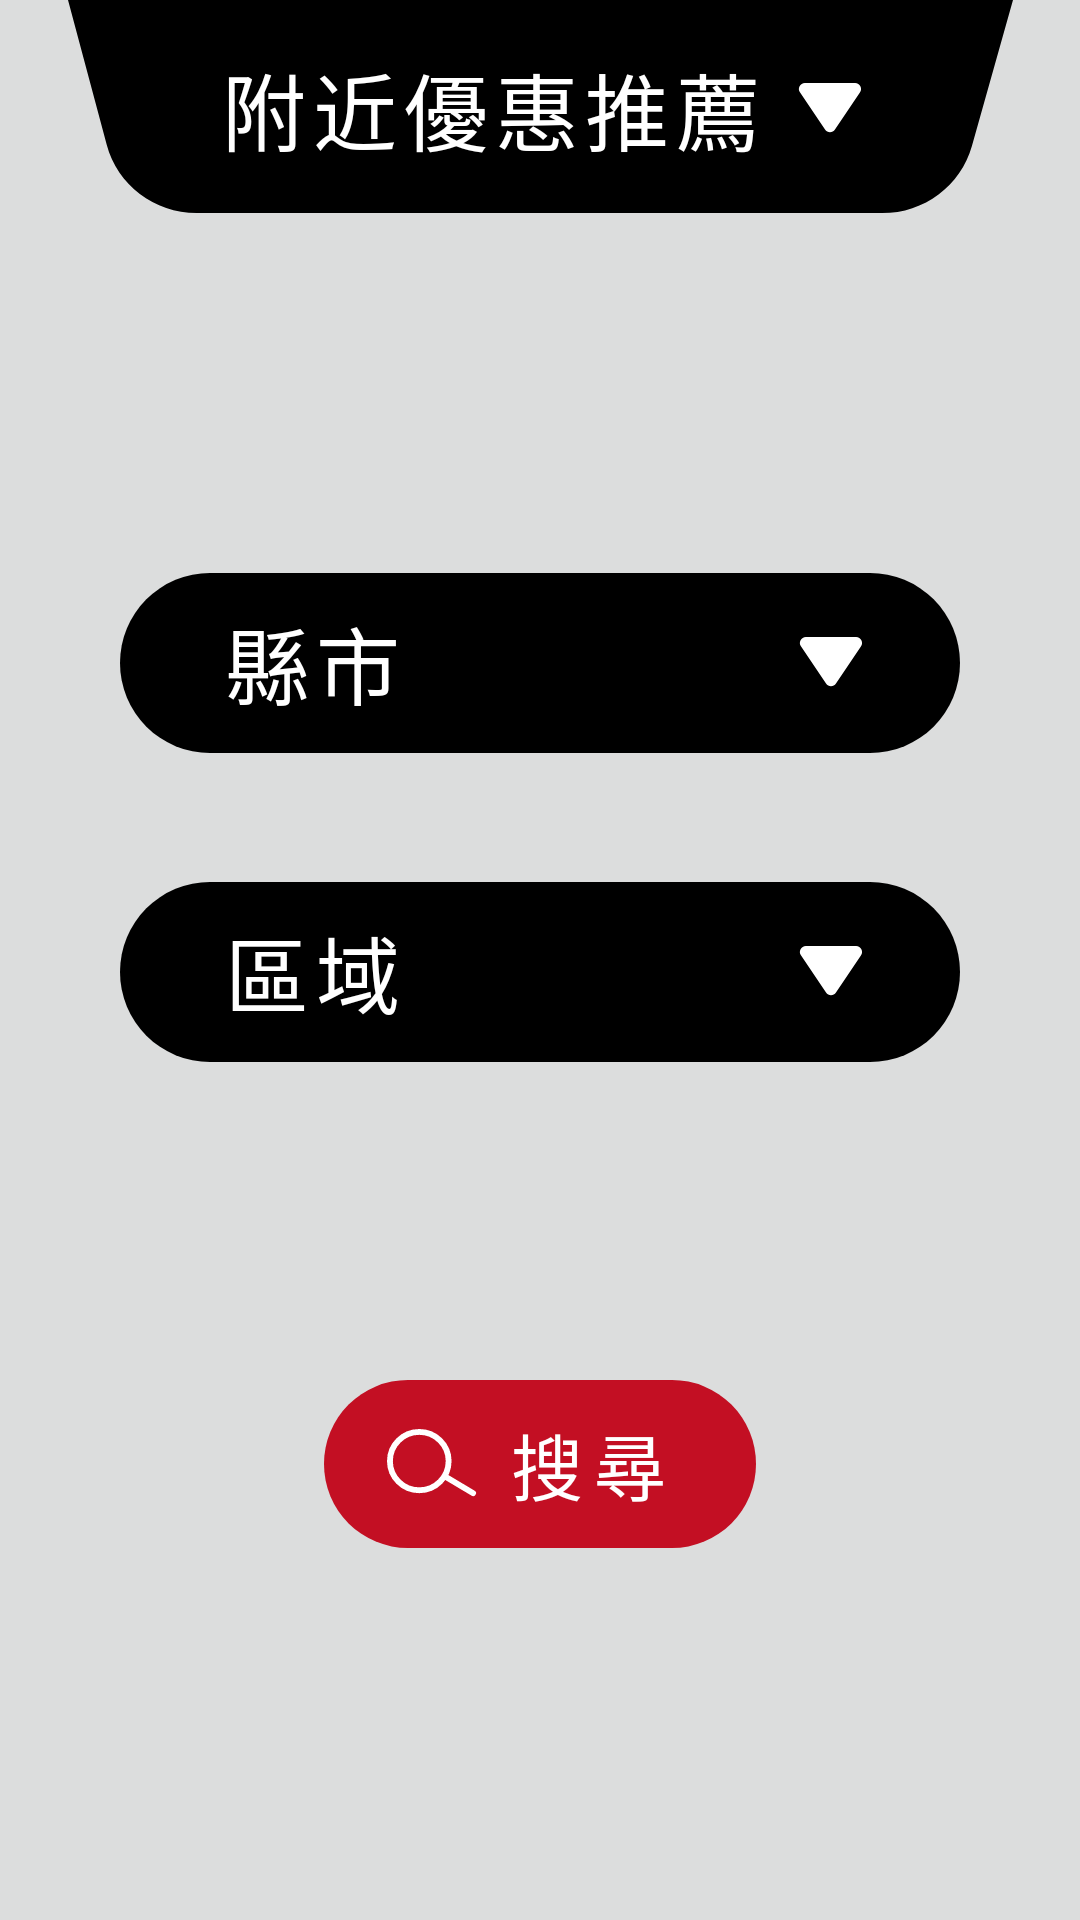

Locate icon controls on the screen. Image size 1080 × 1920, boxes as BBox(x1, y1, x2, y2).
search: BBox(387, 1429, 476, 1497)
triangle down: BBox(798, 83, 861, 133), BBox(799, 637, 862, 687), BBox(799, 946, 862, 996)
